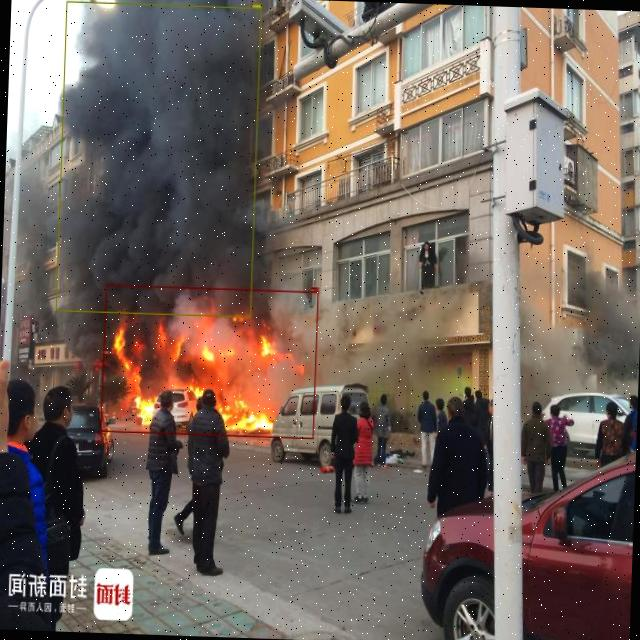fire: (100, 284, 318, 438)
smoke: (55, 1, 262, 318)
